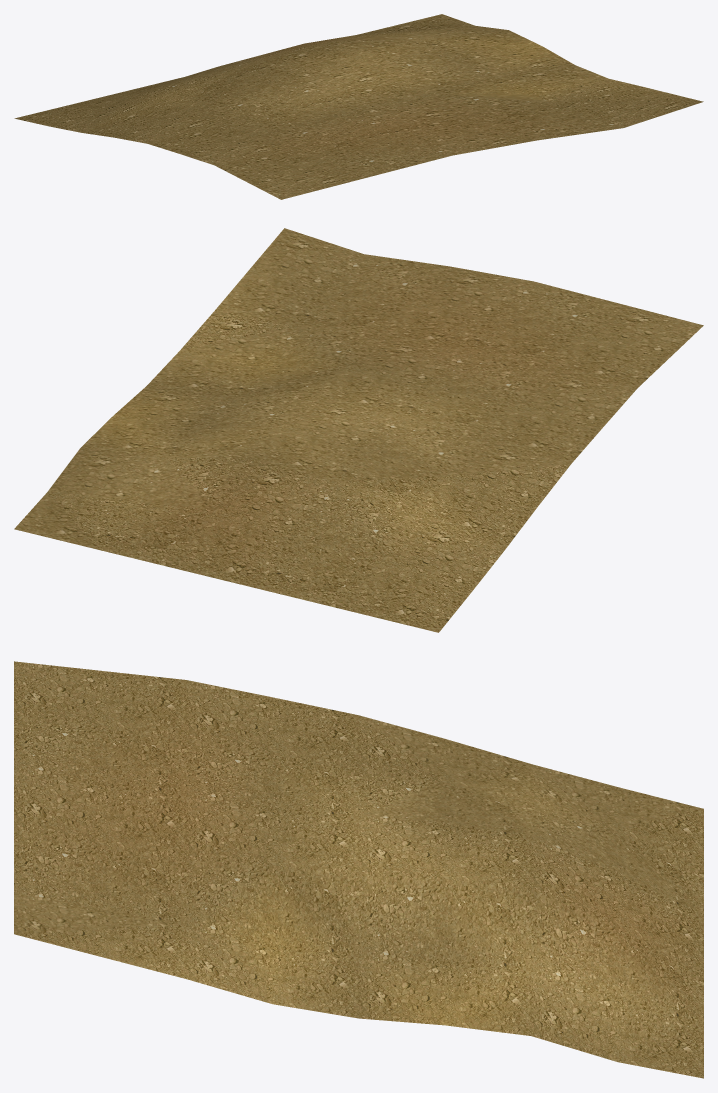
The model's file is M10_Z1_BackgroundLandA.glb.
The picture shows the model from 3 angles, top to bottom: view 1: azimuth 30°, elevation 25°; view 2: azimuth 150°, elevation 25°; view 3: azimuth 270°, elevation 25°; orthographic projection. The views are drawn at different scales.
Visible parts, largest first — view 1: M10_Z1_BACKGROUNDLANDA; view 2: M10_Z1_BACKGROUNDLANDA; view 3: M10_Z1_BACKGROUNDLANDA.
Part boxes in pixels (box(x1,y1,x2,y2)): M10_Z1_BACKGROUNDLANDA: box(14, 14, 703, 199); M10_Z1_BACKGROUNDLANDA: box(14, 228, 703, 632); M10_Z1_BACKGROUNDLANDA: box(14, 661, 703, 1078).
Bounding box in the file's own units: 29.6 × 7.71 × 32.
1 material, 1 textured.
